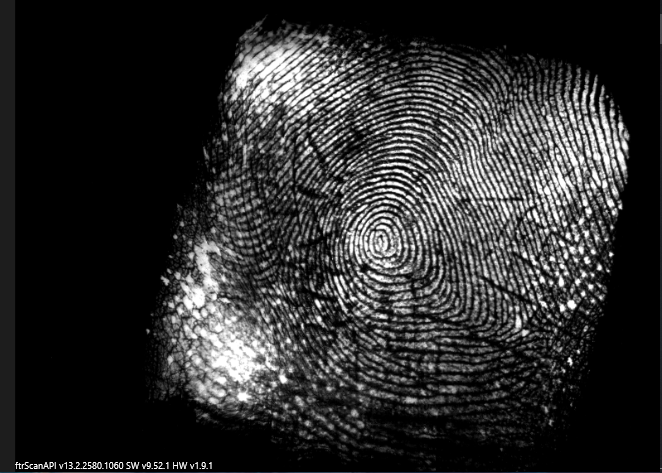deltas: (498, 303, 555, 355)
nucleo: (361, 217, 400, 262)
